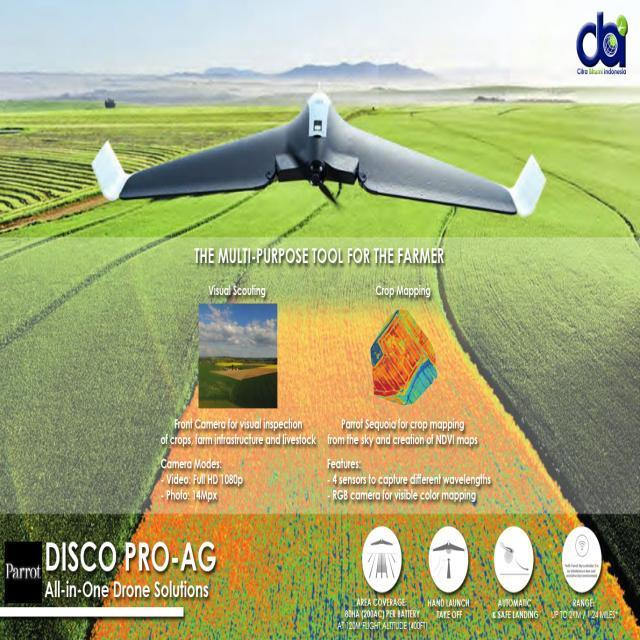iha: (74, 85, 546, 227)
